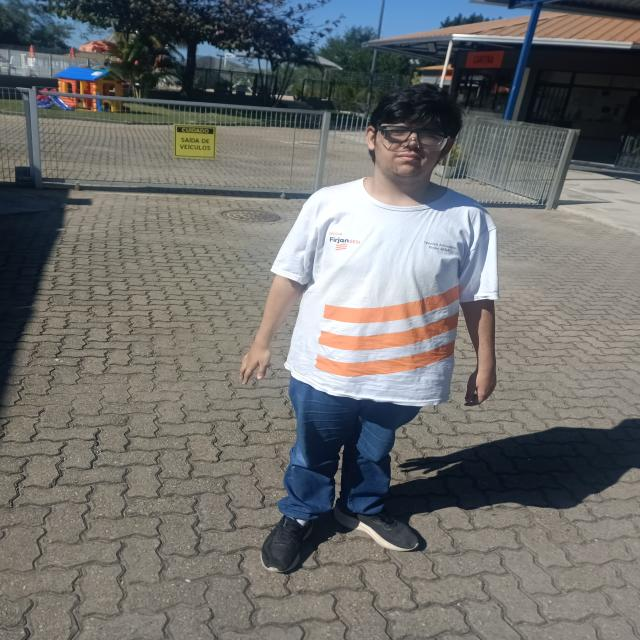oculos-epi: (377, 126, 452, 151)
